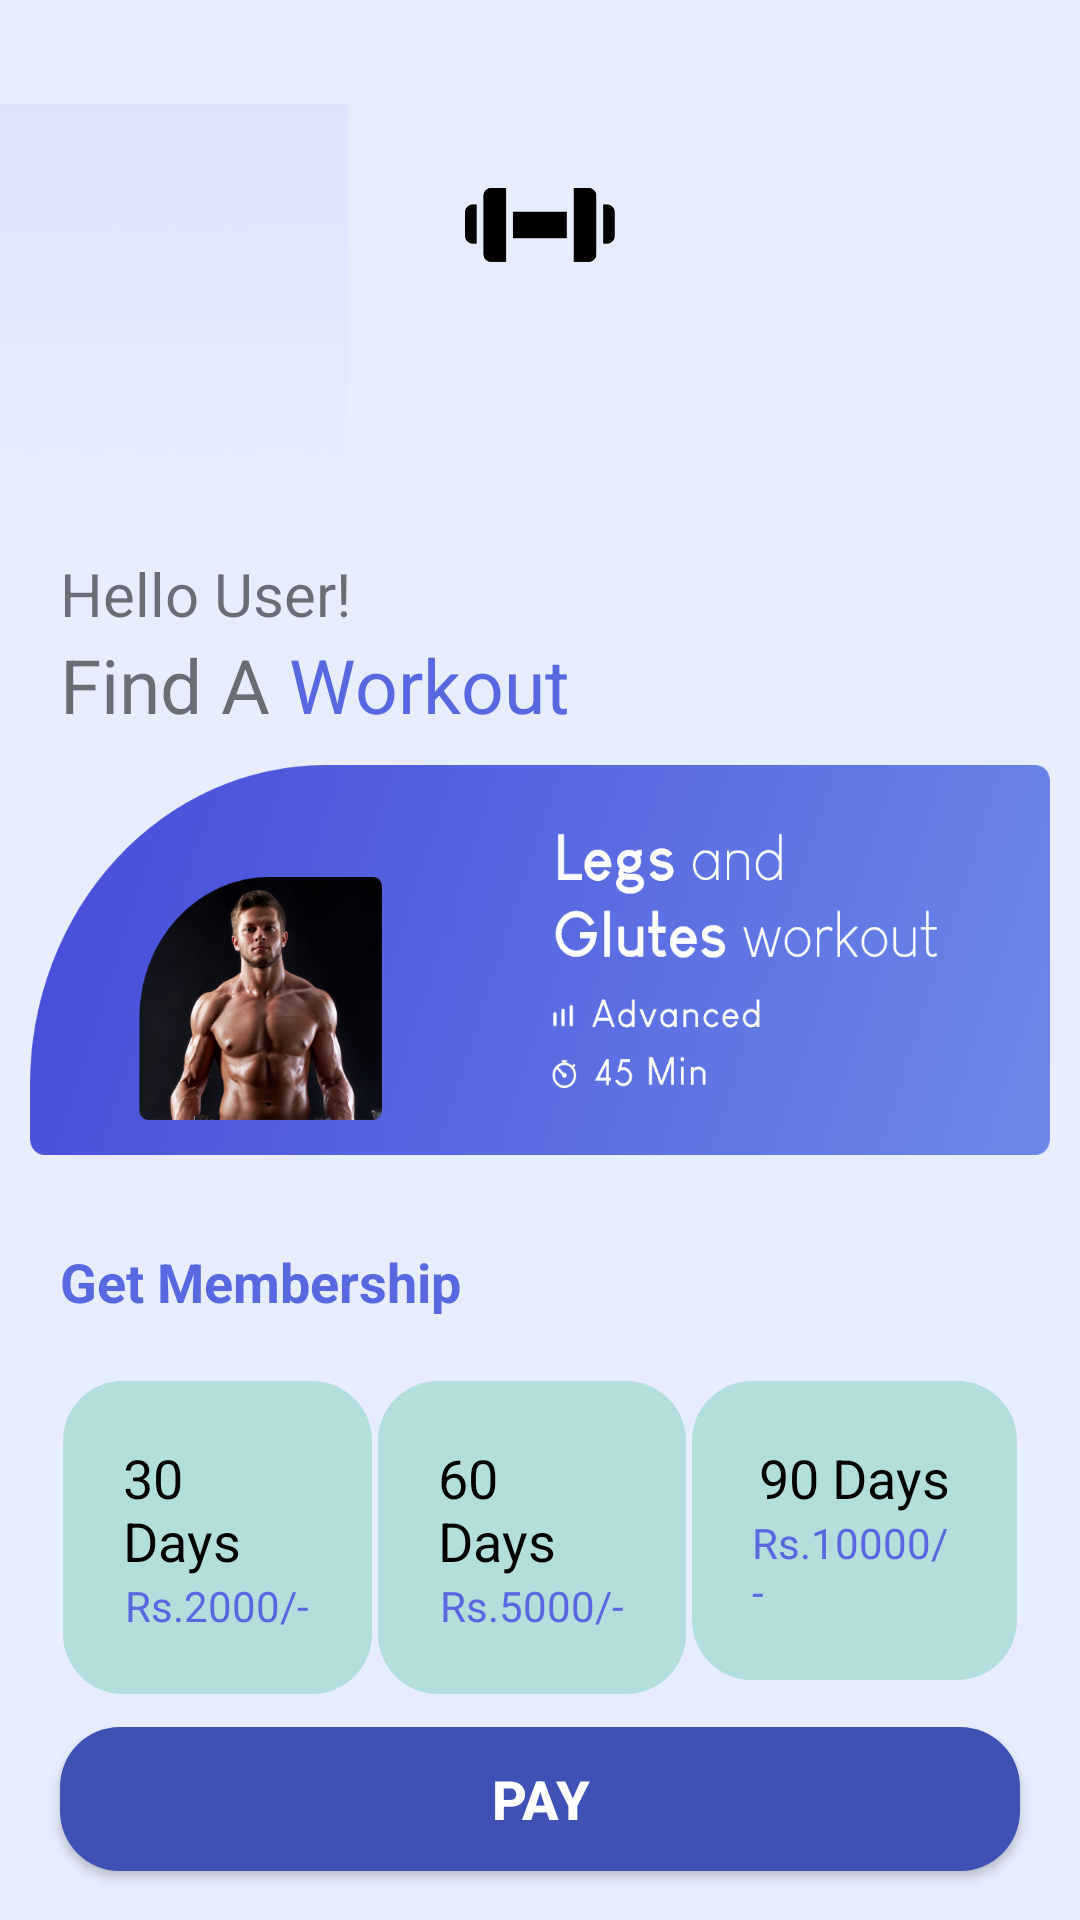

Where to tap for icons on this 1080 x 1920 app screen, as (x,y):
gym: (540,225)
